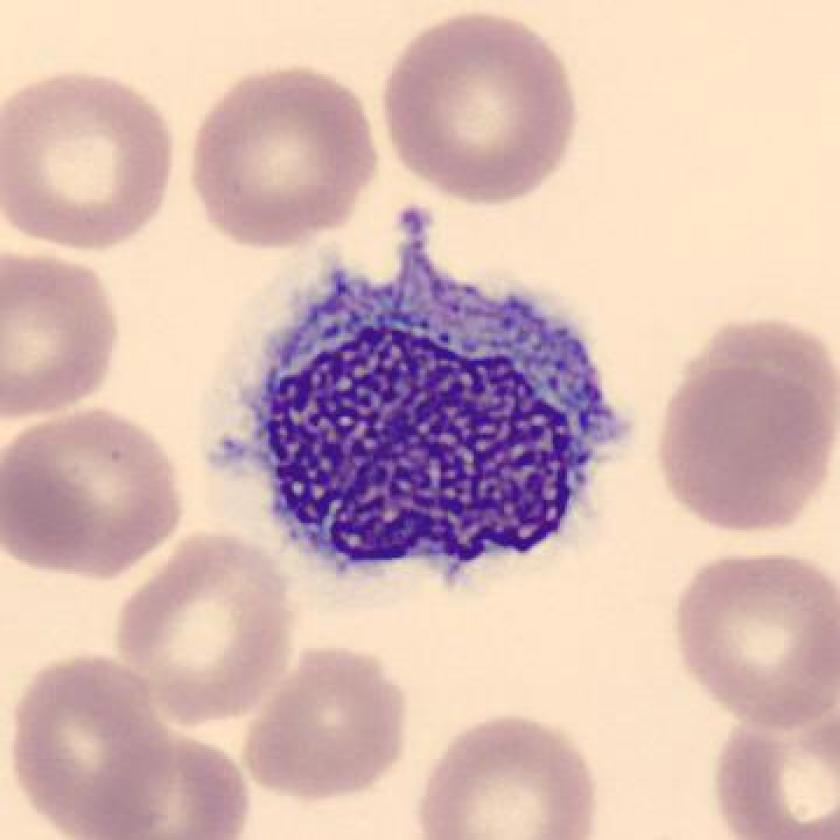monocyte: (197, 200, 654, 612)
